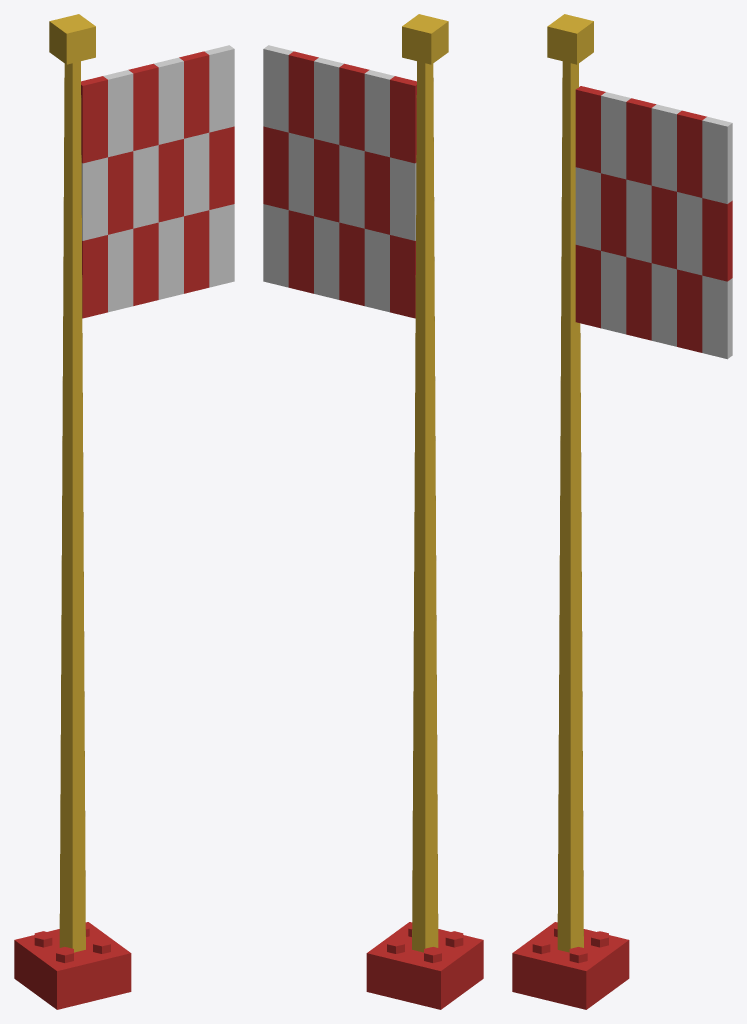
File: flag.glb
The picture shows the model from 3 angles, left to right: view 1: azimuth 30°, elevation 25°; view 2: azimuth 150°, elevation 25°; view 3: azimuth 330°, elevation 25°; orthographic projection.
Visible parts, largest first — view 1: toyRoom-flag; view 2: toyRoom-flag; view 3: toyRoom-flag.
Boxes of the visible parts, x1,y1,x2,y2 form: toyRoom-flag: [14, 14, 234, 1009]; toyRoom-flag: [263, 14, 483, 1009]; toyRoom-flag: [512, 14, 732, 1009].
Bounding box in the file's own units: 0.265 × 1.24 × 0.1.
